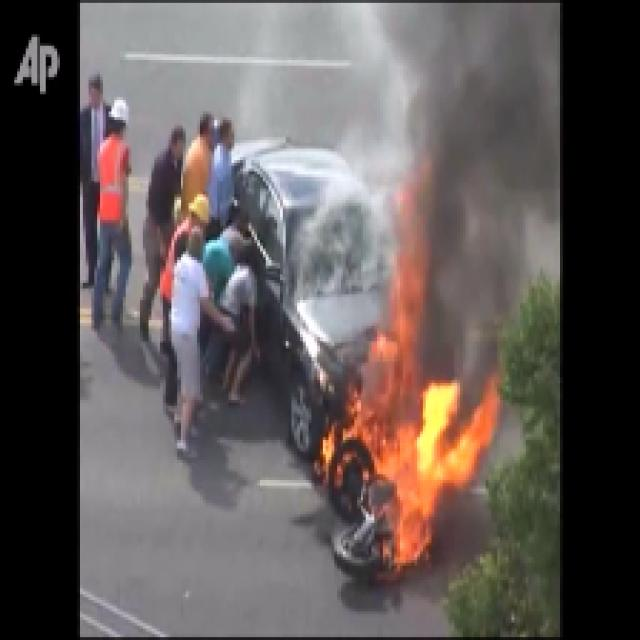fire: (361, 394, 467, 556)
smoke: (399, 11, 548, 324)
